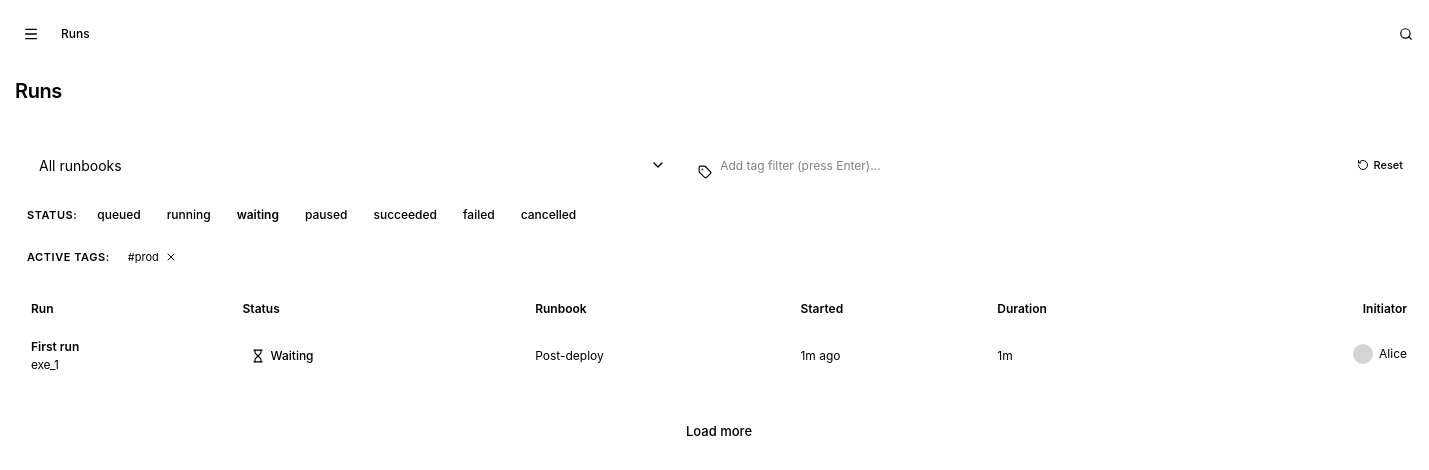
Scenario: execution list filters and paging › round-trips status/runbook/tag filters through the URL and pages by cursor
Expected: the button "First run" is shown, x1=31 y1=339 x2=211 y2=355
Step 1. Click the checkbox labelled "running" → (189, 215), box x1=157 y1=199 x2=221 y2=231
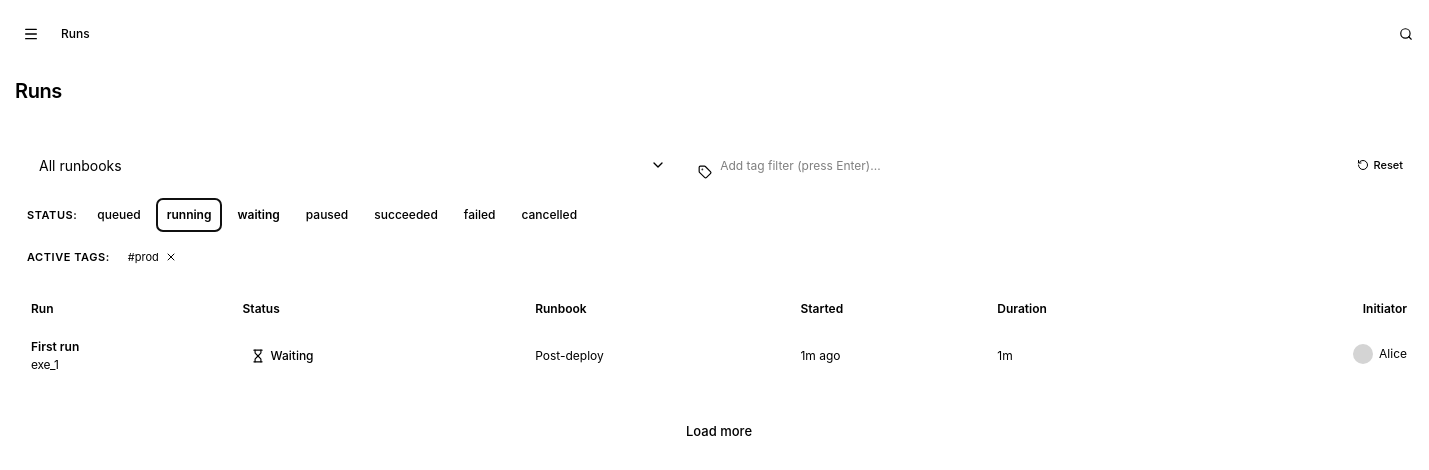
Expected: the button "First run" is shown, x1=31 y1=339 x2=211 y2=355
# D22 cursor paging.
Step 2. Click the button "Load more" → (719, 431), box x1=659 y1=409 x2=779 y2=453
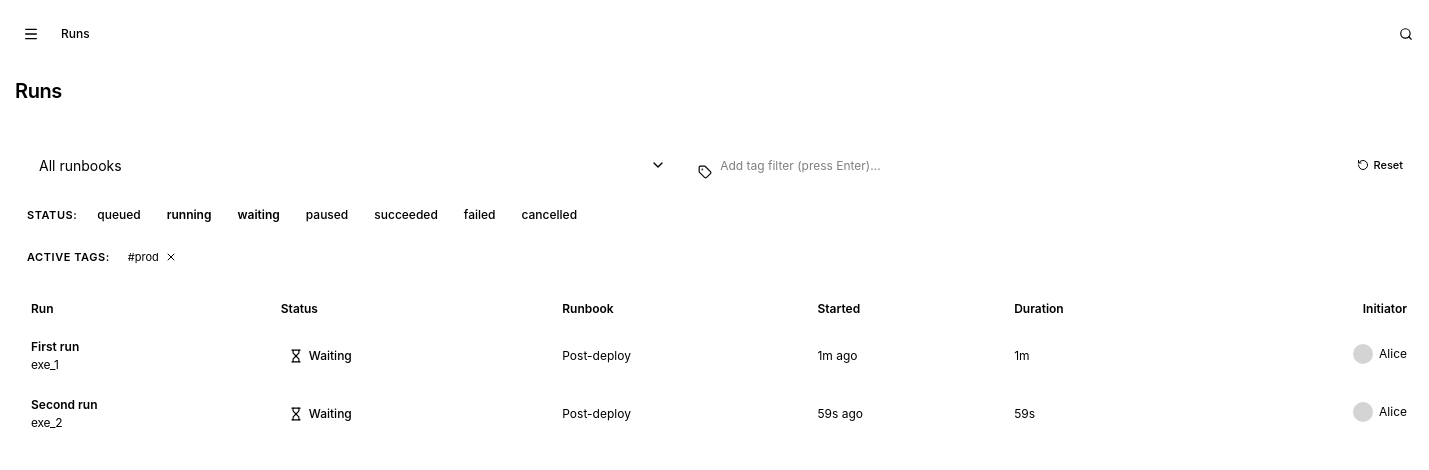
Expected: the button "First run" is shown, x1=31 y1=339 x2=249 y2=355
Result: the button "Second run" is shown at x1=31 y1=397 x2=249 y2=413
